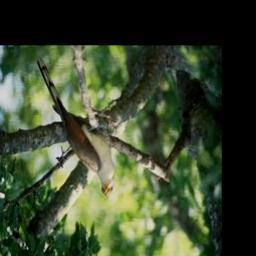Cuckoo: (35, 55, 117, 201)
